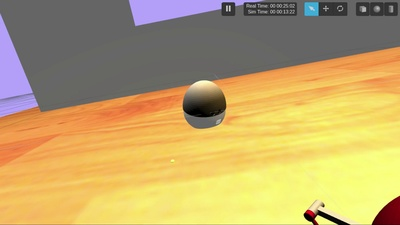mira_robot: (183, 80, 227, 129)
